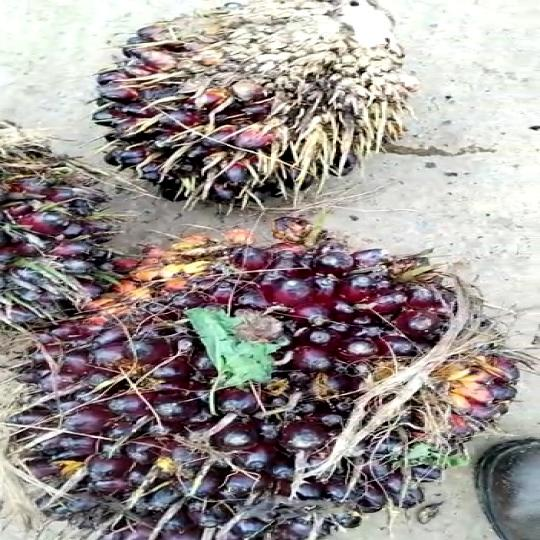kurang masak: (22, 239, 515, 540), (99, 0, 424, 212), (0, 134, 131, 338)
